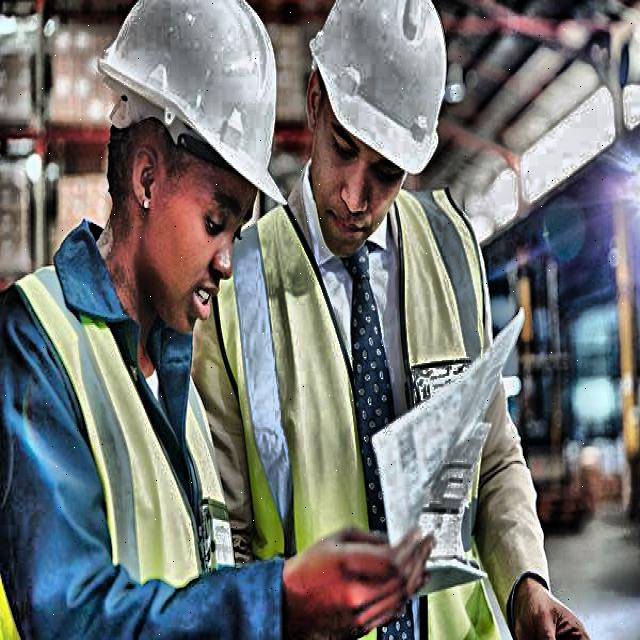helmet: (74, 0, 310, 334), (294, 0, 460, 280)
